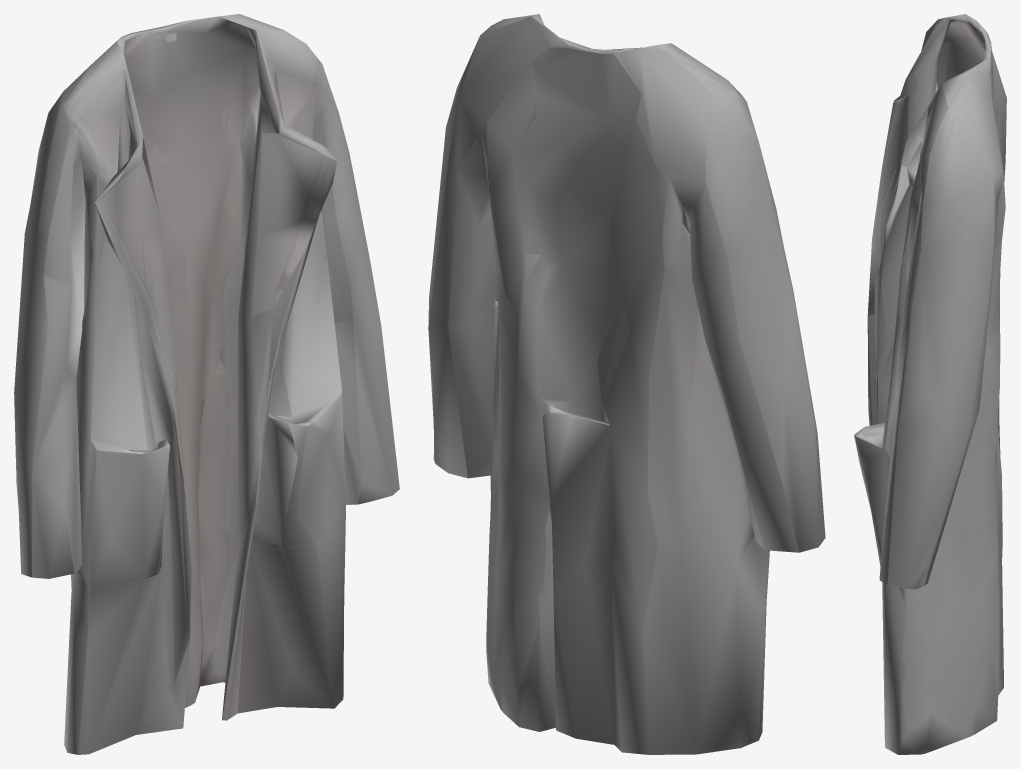
Rendered from casacos-no-texture-final.glb.
The picture shows the model from 3 angles, left to right: view 1: azimuth 30°, elevation 25°; view 2: azimuth 150°, elevation 25°; view 3: azimuth 270°, elevation 25°; orthographic projection. The views are drawn at different scales.
Visible parts, largest first — view 1: textured_mesh; view 2: textured_mesh; view 3: textured_mesh.
Boxes of the visible parts, x1,y1,x2,y2 form: textured_mesh: (14, 14, 399, 754); textured_mesh: (428, 14, 825, 754); textured_mesh: (854, 14, 1006, 754).
Bounding box in the file's own units: 1.14 × 1.99 × 0.422.
1 material, 1 textured.
